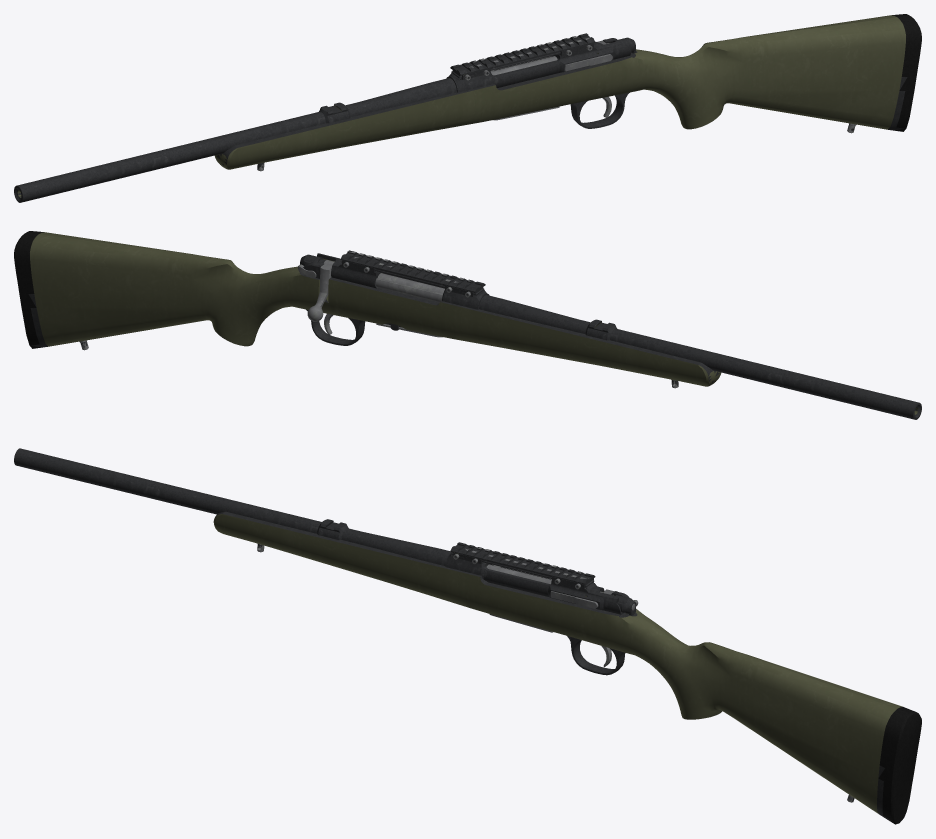
The picture shows the model from 3 angles, top to bottom: view 1: azimuth 30°, elevation 25°; view 2: azimuth 150°, elevation 25°; view 3: azimuth 330°, elevation 25°; orthographic projection.
Visible parts, largest first — view 1: m24; view 2: m24; view 3: m24.
Boxes of the visible parts, left/top/right/bottom form: m24: left=14, top=14, right=921, bottom=202; m24: left=14, top=231, right=921, bottom=419; m24: left=14, top=448, right=921, bottom=824.
Bounding box in the file's own units: 1.09 × 0.1979 × 0.0679.
4 materials, 4 textured.
